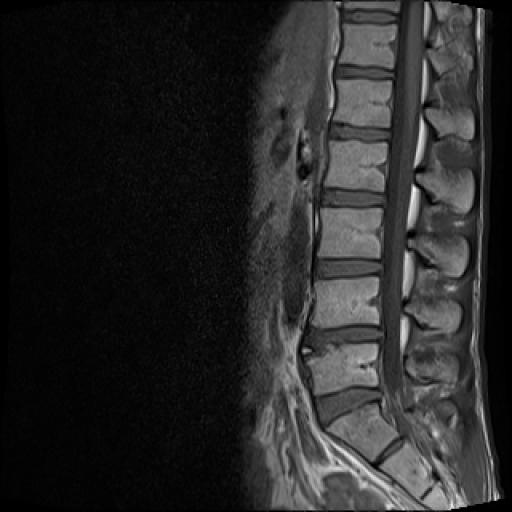L1: (334, 80, 392, 126)
L2: (326, 142, 386, 192)
L3: (320, 208, 382, 258)
L4: (312, 277, 380, 328)
L5: (308, 344, 378, 396)
S1: (326, 403, 399, 462)
